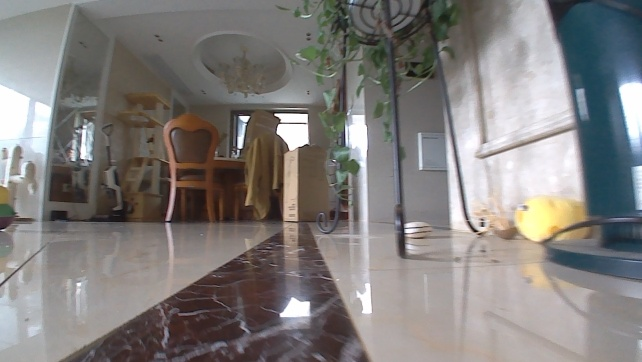dining_table: (155, 106, 287, 224)
